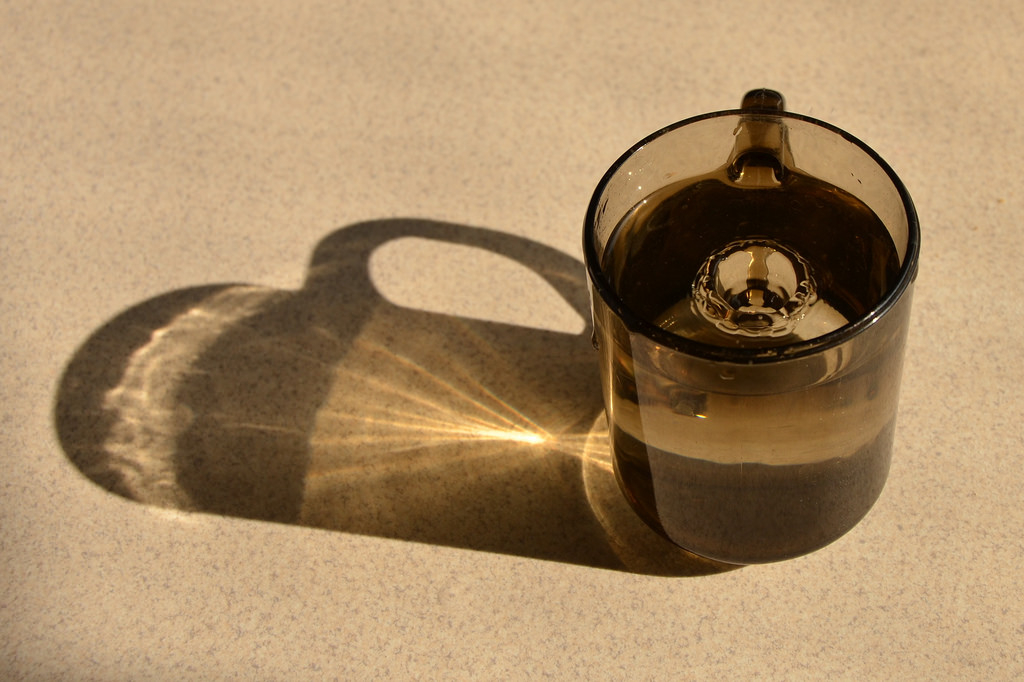glass of water: (578, 74, 921, 567)
